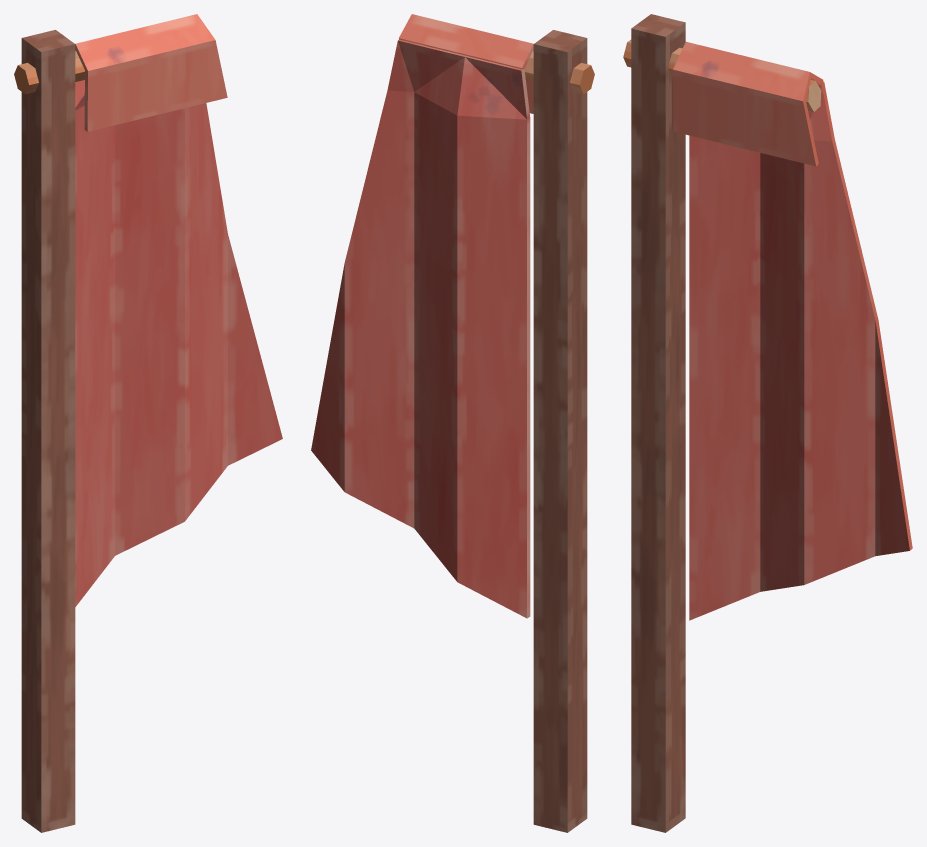
Rendered from rack_red_s00.fbx.
The picture shows the model from 3 angles, left to right: view 1: azimuth 30°, elevation 25°; view 2: azimuth 150°, elevation 25°; view 3: azimuth 330°, elevation 25°; orthographic projection.
Parts seen in each view (by area): view 1: rack_red_s00; view 2: rack_red_s00; view 3: rack_red_s00.
Part boxes in pixels (x1,y1,x2,y2): rack_red_s00: (14, 14, 282, 832); rack_red_s00: (311, 14, 594, 832); rack_red_s00: (623, 14, 912, 832).
Size of the model in its own units: 3.48 by 9.7 by 0.7289.
